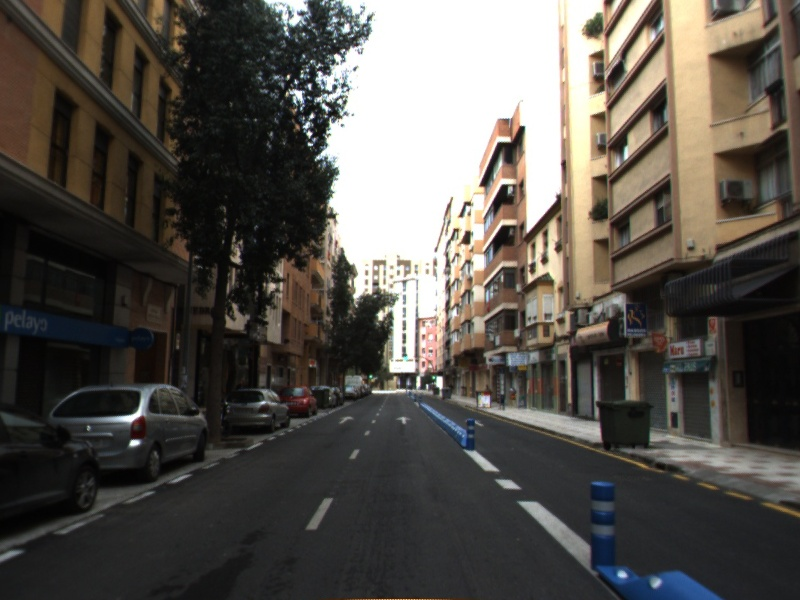STRAIGHT: (336, 414, 356, 425), (394, 415, 414, 426)
